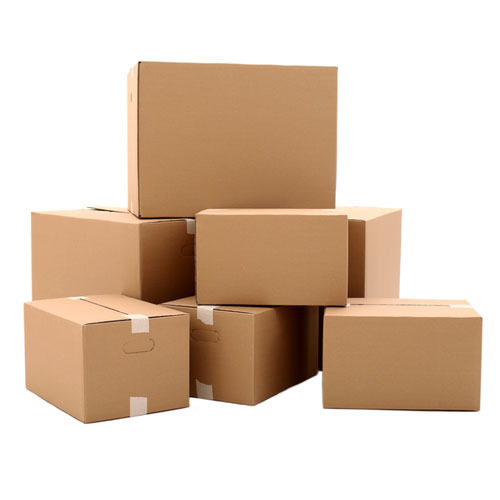Rec_Paper: (17, 38, 495, 434), (101, 52, 351, 212), (8, 290, 199, 427), (302, 296, 490, 421), (176, 208, 365, 308), (19, 205, 172, 292)
